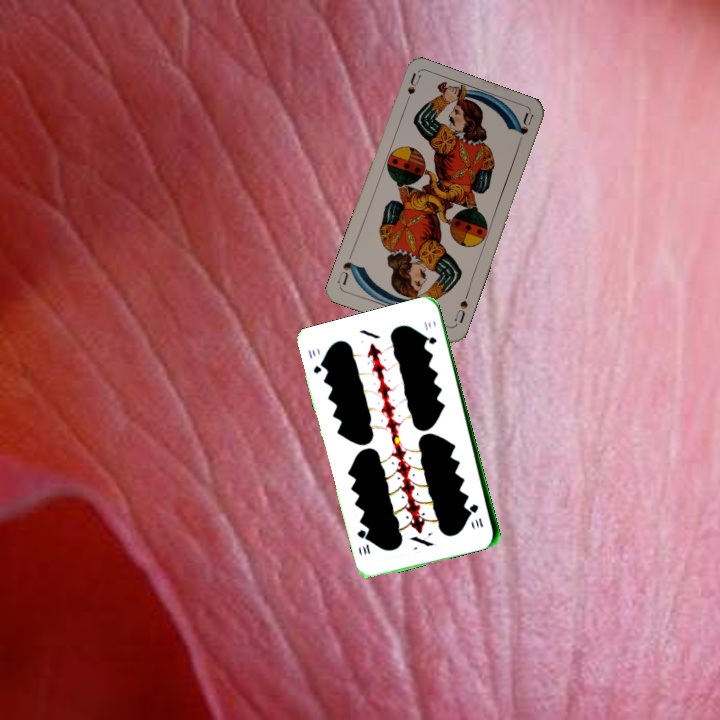G10: (304, 346, 326, 377), (468, 500, 486, 530)
SU: (400, 70, 423, 110), (450, 296, 471, 326)
